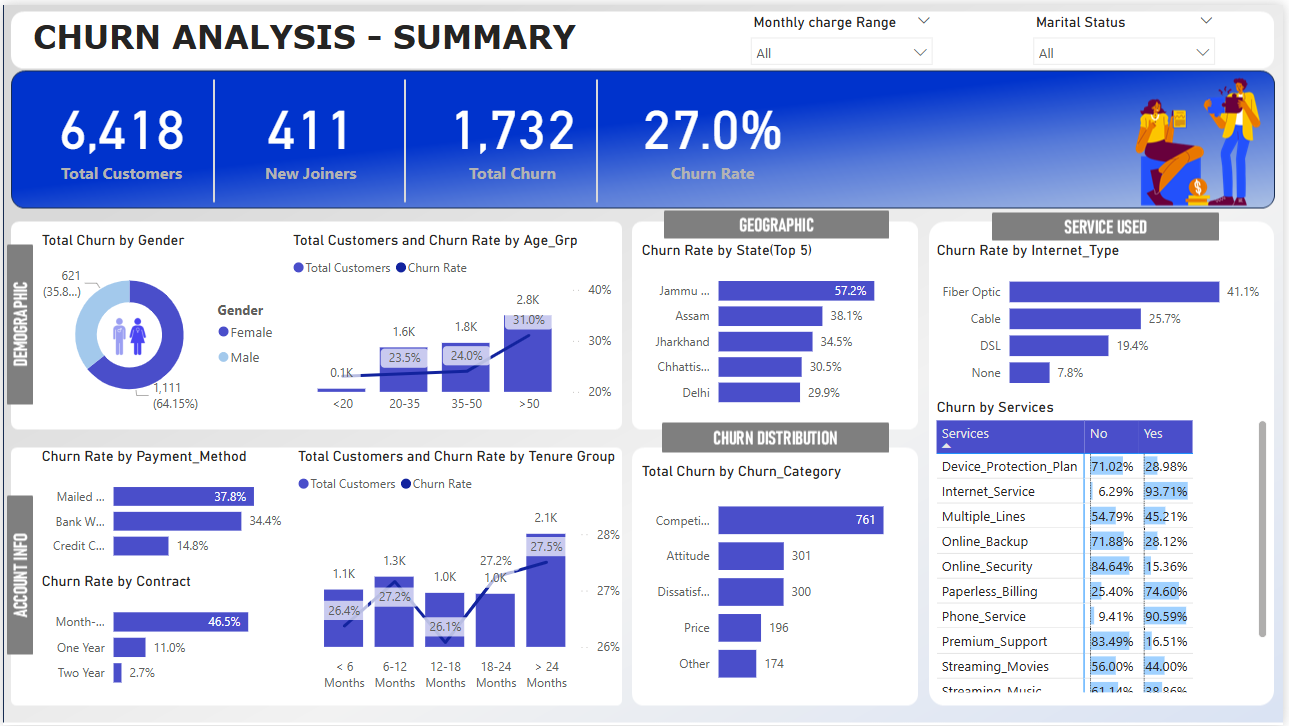

Layout of this report page (visuals, bound fields, positions):
{"tool":"powerbi","page":{"name":"Summary","canvas":[1280,720],"ordinal":0},"visuals":[{"type":"card","fields":{"Values":["tbl_measures.Total Customers"]},"box":[33.3,77,170.1,103.4],"z":0},{"type":"donutChart","fields":{"Category":["prod_Churn.Gender"],"Y":["tbl_measures.Total Churn"]},"box":[33.3,226.4,251.7,190.8],"z":1000},{"type":"lineStackedColumnComboChart","fields":{"Category":["mapping_ageGRP.Age_Grp"],"Y":["tbl_measures.Total Customers"],"Y2":["tbl_measures.Churn Rate"]},"box":[285.1,226.4,328.7,190.8],"z":2000},{"type":"clusteredBarChart","fields":{"Category":["prod_Churn.Payment_Method"],"Y":["tbl_measures.Churn Rate"]},"box":[33.3,442.5,256.3,124.1],"z":3000},{"type":"clusteredBarChart","fields":{"Category":["prod_Churn.Contract"],"Y":["tbl_measures.Churn Rate"]},"box":[33.3,567.8,256.3,126.4],"z":4000},{"type":"lineStackedColumnComboChart","fields":{"Category":["mapping_Tenure.Tenure Group"],"Y":["tbl_measures.Total Customers"],"Y2":["tbl_measures.Churn Rate"]},"box":[289.7,442.5,332.2,250.6],"z":5000},{"type":"clusteredBarChart","title":"Churn Rate by State(Top 5)","fields":{"Category":["prod_Churn.State"],"Y":["tbl_measures.Churn Rate"]},"box":[633.3,235.6,277,177],"z":6000},{"type":"clusteredBarChart","fields":{"Category":["prod_Churn.Churn_Category"],"Y":["tbl_measures.Total Churn"]},"box":[633.3,457.5,277,235.6],"z":7000},{"type":"clusteredBarChart","fields":{"Category":["prod_Churn.Internet_Type"],"Y":["tbl_measures.Churn Rate"]},"box":[928.7,235.6,340.2,158.6],"z":8000},{"type":"pivotTable","title":"Churn by Services","fields":{"Rows":["Prod_Services.Services"],"Columns":["Prod_Services.Status"],"Values":["Sum(Prod_Services.Churn status)"]},"box":[928.7,394.3,340.2,298.9],"z":9000},{"type":"slicer","fields":{"Values":["prod_Churn.Monthly charge status"]},"box":[737.9,3.4,202.3,59.8],"z":10000},{"type":"card","fields":{"Values":["tbl_measures.New Joiners"]},"box":[217.2,77,180.5,103.4],"z":11000},{"type":"card","fields":{"Values":["tbl_measures.Total Churn"]},"box":[426.4,77,166.7,103.4],"z":12000},{"type":"image","box":[95.3,302.8,62.7,56.7],"z":12500},{"type":"card","fields":{"Values":["tbl_measures.Churn Rate"]},"box":[621.8,77,177,103.4],"z":13000},{"type":"slicer","fields":{"Values":["prod_Churn.Married"]},"box":[1019.5,3.4,202.3,59.8],"z":15000},{"type":"textbox","box":[25.3,8,588.5,49.4],"z":16000}]}

Visuals, with their boxes in screenshot pixels (x1, y1, x2, y2), scaled from the page's 1280x720 canvas onto the 1289x726 screenshot:
card - tbl_measures.Total Customers: <region>34, 78, 205, 182</region>
donutChart - prod_Churn.Gender x tbl_measures.Total Churn: <region>34, 228, 287, 421</region>
lineStackedColumnComboChart - mapping_ageGRP.Age_Grp x tbl_measures.Total Customers: <region>287, 228, 618, 421</region>
clusteredBarChart - prod_Churn.Payment_Method x tbl_measures.Churn Rate: <region>34, 446, 292, 571</region>
clusteredBarChart - prod_Churn.Contract x tbl_measures.Churn Rate: <region>34, 573, 292, 700</region>
lineStackedColumnComboChart - mapping_Tenure.Tenure Group x tbl_measures.Total Customers: <region>292, 446, 626, 699</region>
"Churn Rate by State(Top 5)" clusteredBarChart: <region>638, 238, 917, 416</region>
clusteredBarChart - prod_Churn.Churn_Category x tbl_measures.Total Churn: <region>638, 461, 917, 699</region>
clusteredBarChart - prod_Churn.Internet_Type x tbl_measures.Churn Rate: <region>935, 238, 1278, 397</region>
"Churn by Services" pivotTable: <region>935, 398, 1278, 699</region>
slicer - prod_Churn.Monthly charge status: <region>743, 3, 947, 64</region>
card - tbl_measures.New Joiners: <region>219, 78, 400, 182</region>
card - tbl_measures.Total Churn: <region>429, 78, 597, 182</region>
image: <region>96, 305, 159, 362</region>
card - tbl_measures.Churn Rate: <region>626, 78, 804, 182</region>
slicer - prod_Churn.Married: <region>1027, 3, 1230, 64</region>
textbox: <region>25, 8, 618, 58</region>
